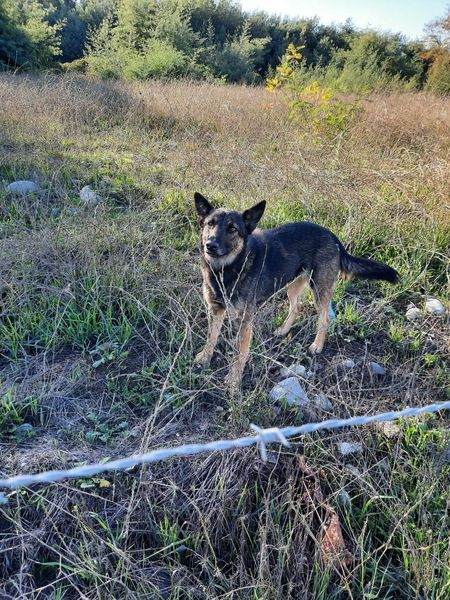dog: (177, 179, 379, 396)
